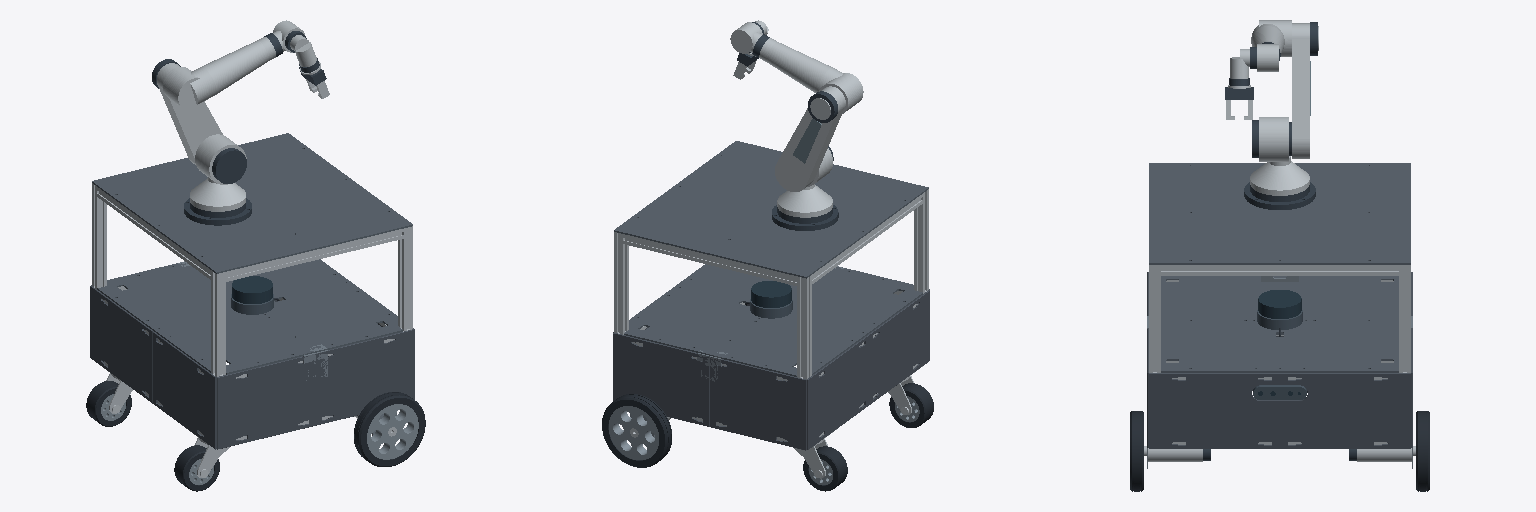
The robot description file, URDF, robot "oh_my_mobilerobot":
<?xml version='1.0' encoding='utf-8'?>
<robot name="oh_my_mobilerobot">
  <material name="color_accent">
    <color rgba="0.462745098 0.537254902 0.5803921569 1" />
  </material>
  <material name="color_arm">
    <color rgba="0.737254902 0.7647058824 0.7843137255 1" />
  </material>
  <material name="color_bracket">
    <color rgba="0.4941176471 0.537254902 0.5764705882 1" />
  </material>
  <material name="color_cover">
    <color rgba="0.3490196078 0.3803921569 0.4196078431 1" />
  </material>
  <material name="color_deck">
    <color rgba="0.3843137255 0.4235294118 0.462745098 1" />
  </material>
  <material name="color_display">
    <color rgba="0.2705882353 0.3176470588 0.3647058824 1" />
  </material>
  <material name="color_fastener">
    <color rgba="0.7647058824 0.7921568627 0.8156862745 1" />
  </material>
  <material name="color_hub">
    <color rgba="0.5490196078 0.5960784314 0.6352941176 1" />
  </material>
  <material name="color_joint">
    <color rgba="0.262745098 0.3058823529 0.3490196078 1" />
  </material>
  <material name="color_metal">
    <color rgba="0.7333333333 0.7607843137 0.7843137255 1" />
  </material>
  <material name="color_optic">
    <color rgba="0.2039215686 0.2745098039 0.3215686275 1" />
  </material>
  <material name="color_rubber">
    <color rgba="0.2117647059 0.2392156863 0.2705882353 1" />
  </material>
  <material name="color_screen">
    <color rgba="0.2078431373 0.2862745098 0.3411764706 1" />
  </material>
  <material name="color_screen_card">
    <color rgba="0.3960784314 0.4745098039 0.5176470588 1" />
  </material>
  <material name="color_screen_text">
    <color rgba="0.8823529412 0.9058823529 0.9215686275 1" />
  </material>
  <material name="color_sensor">
    <color rgba="0.3254901961 0.3764705882 0.4235294118 1" />
  </material>
  <link name="base_footprint" />
  <link name="base_link">
    <visual name="base_link_bracket">
      <geometry>
        <mesh filename="package://oh_my_mobilerobot_description/meshes/visual/base_link/bracket.stl" scale="1 1 1" />
      </geometry>
      <material name="color_bracket" />
    </visual>
    <visual name="base_link_cover">
      <geometry>
        <mesh filename="package://oh_my_mobilerobot_description/meshes/visual/base_link/cover.stl" scale="1 1 1" />
      </geometry>
      <material name="color_cover" />
    </visual>
    <visual name="base_link_deck">
      <geometry>
        <mesh filename="package://oh_my_mobilerobot_description/meshes/visual/base_link/deck.stl" scale="1 1 1" />
      </geometry>
      <material name="color_deck" />
    </visual>
    <visual name="base_link_fastener">
      <geometry>
        <mesh filename="package://oh_my_mobilerobot_description/meshes/visual/base_link/fastener.stl" scale="1 1 1" />
      </geometry>
      <material name="color_fastener" />
    </visual>
    <visual name="base_link_joint">
      <geometry>
        <mesh filename="package://oh_my_mobilerobot_description/meshes/visual/base_link/joint.stl" scale="1 1 1" />
      </geometry>
      <material name="color_joint" />
    </visual>
    <visual name="base_link_metal">
      <geometry>
        <mesh filename="package://oh_my_mobilerobot_description/meshes/visual/base_link/metal.stl" scale="1 1 1" />
      </geometry>
      <material name="color_metal" />
    </visual>
    <collision>
      <geometry>
        <box size="0.406 0.446 0.2" />
      </geometry>
      <origin rpy="0 0 0" xyz="-0.14 0 0.046" />
    </collision>
  </link>
  <link name="left_wheel_link">
    <visual name="left_wheel_link_hub">
      <geometry>
        <mesh filename="package://oh_my_mobilerobot_description/meshes/visual/left_wheel_link/hub.stl" scale="1 1 1" />
      </geometry>
      <material name="color_hub" />
    </visual>
    <visual name="left_wheel_link_metal">
      <geometry>
        <mesh filename="package://oh_my_mobilerobot_description/meshes/visual/left_wheel_link/metal.stl" scale="1 1 1" />
      </geometry>
      <material name="color_metal" />
    </visual>
    <visual name="left_wheel_link_rubber">
      <geometry>
        <mesh filename="package://oh_my_mobilerobot_description/meshes/visual/left_wheel_link/rubber.stl" scale="1 1 1" />
      </geometry>
      <material name="color_rubber" />
    </visual>
    <collision>
      <geometry>
        <cylinder length="0.024" radius="0.068" />
      </geometry>
      <origin rpy="1.570796327 0 0" xyz="0 0 0" />
    </collision>
  </link>
  <link name="right_wheel_link">
    <visual name="right_wheel_link_hub">
      <geometry>
        <mesh filename="package://oh_my_mobilerobot_description/meshes/visual/right_wheel_link/hub.stl" scale="1 1 1" />
      </geometry>
      <material name="color_hub" />
    </visual>
    <visual name="right_wheel_link_metal">
      <geometry>
        <mesh filename="package://oh_my_mobilerobot_description/meshes/visual/right_wheel_link/metal.stl" scale="1 1 1" />
      </geometry>
      <material name="color_metal" />
    </visual>
    <visual name="right_wheel_link_rubber">
      <geometry>
        <mesh filename="package://oh_my_mobilerobot_description/meshes/visual/right_wheel_link/rubber.stl" scale="1 1 1" />
      </geometry>
      <material name="color_rubber" />
    </visual>
    <collision>
      <geometry>
        <cylinder length="0.024" radius="0.068" />
      </geometry>
      <origin rpy="1.570796327 0 0" xyz="0 0 0" />
    </collision>
  </link>
  <link name="left_caster_swivel_link">
    <visual name="left_caster_swivel_link_fastener">
      <geometry>
        <mesh filename="package://oh_my_mobilerobot_description/meshes/visual/left_caster_swivel_link/fastener.stl" scale="1 1 1" />
      </geometry>
      <material name="color_fastener" />
    </visual>
    <visual name="left_caster_swivel_link_metal">
      <geometry>
        <mesh filename="package://oh_my_mobilerobot_description/meshes/visual/left_caster_swivel_link/metal.stl" scale="1 1 1" />
      </geometry>
      <material name="color_metal" />
    </visual>
    <collision>
      <geometry>
        <box size="0.0715 0.053 0.075" />
      </geometry>
      <origin rpy="0 0 0" xyz="-0.00925 0 -0.0375" />
    </collision>
  </link>
  <link name="right_caster_swivel_link">
    <visual name="right_caster_swivel_link_fastener">
      <geometry>
        <mesh filename="package://oh_my_mobilerobot_description/meshes/visual/right_caster_swivel_link/fastener.stl" scale="1 1 1" />
      </geometry>
      <material name="color_fastener" />
    </visual>
    <visual name="right_caster_swivel_link_metal">
      <geometry>
        <mesh filename="package://oh_my_mobilerobot_description/meshes/visual/right_caster_swivel_link/metal.stl" scale="1 1 1" />
      </geometry>
      <material name="color_metal" />
    </visual>
    <collision>
      <geometry>
        <box size="0.0715 0.053 0.075" />
      </geometry>
      <origin rpy="0 0 0" xyz="-0.00925 0 -0.0375" />
    </collision>
  </link>
  <link name="left_caster_wheel_link">
    <visual name="left_caster_wheel_link_hub">
      <geometry>
        <mesh filename="package://oh_my_mobilerobot_description/meshes/visual/left_caster_wheel_link/hub.stl" scale="1 1 1" />
      </geometry>
      <material name="color_hub" />
    </visual>
    <visual name="left_caster_wheel_link_rubber">
      <geometry>
        <mesh filename="package://oh_my_mobilerobot_description/meshes/visual/left_caster_wheel_link/rubber.stl" scale="1 1 1" />
      </geometry>
      <material name="color_rubber" />
    </visual>
    <collision>
      <geometry>
        <cylinder length="0.033" radius="0.038" />
      </geometry>
      <origin rpy="1.570796327 0 0" xyz="0 0 0" />
    </collision>
  </link>
  <link name="right_caster_wheel_link">
    <visual name="right_caster_wheel_link_hub">
      <geometry>
        <mesh filename="package://oh_my_mobilerobot_description/meshes/visual/right_caster_wheel_link/hub.stl" scale="1 1 1" />
      </geometry>
      <material name="color_hub" />
    </visual>
    <visual name="right_caster_wheel_link_rubber">
      <geometry>
        <mesh filename="package://oh_my_mobilerobot_description/meshes/visual/right_caster_wheel_link/rubber.stl" scale="1 1 1" />
      </geometry>
      <material name="color_rubber" />
    </visual>
    <collision>
      <geometry>
        <cylinder length="0.033" radius="0.038" />
      </geometry>
      <origin rpy="1.570796327 0 0" xyz="0 0 0" />
    </collision>
  </link>
  <link name="lidar_link">
    <visual name="lidar_link_optic">
      <geometry>
        <mesh filename="package://oh_my_mobilerobot_description/meshes/visual/lidar_link/optic.stl" scale="1 1 1" />
      </geometry>
      <material name="color_optic" />
    </visual>
    <visual name="lidar_link_rubber">
      <geometry>
        <mesh filename="package://oh_my_mobilerobot_description/meshes/visual/lidar_link/rubber.stl" scale="1 1 1" />
      </geometry>
      <material name="color_rubber" />
    </visual>
    <visual name="lidar_link_sensor">
      <geometry>
        <mesh filename="package://oh_my_mobilerobot_description/meshes/visual/lidar_link/sensor.stl" scale="1 1 1" />
      </geometry>
      <material name="color_sensor" />
    </visual>
    <collision>
      <geometry>
        <box size="0.09399897908 0.07598632342 0.062" />
      </geometry>
      <origin rpy="0 0 0" xyz="0.009000510459 0 0.01" />
    </collision>
  </link>
  <link name="camera_link">
    <visual name="camera_link_optic">
      <geometry>
        <mesh filename="package://oh_my_mobilerobot_description/meshes/visual/camera_link/optic.stl" scale="1 1 1" />
      </geometry>
      <material name="color_optic" />
    </visual>
    <visual name="camera_link_rubber">
      <geometry>
        <mesh filename="package://oh_my_mobilerobot_description/meshes/visual/camera_link/rubber.stl" scale="1 1 1" />
      </geometry>
      <material name="color_rubber" />
    </visual>
    <visual name="camera_link_sensor">
      <geometry>
        <mesh filename="package://oh_my_mobilerobot_description/meshes/visual/camera_link/sensor.stl" scale="1 1 1" />
      </geometry>
      <material name="color_sensor" />
    </visual>
    <collision>
      <geometry>
        <box size="0.06811 0.1675 0.025" />
      </geometry>
      <origin rpy="0 0 0" xyz="-0.033995 0.03875 0" />
    </collision>
  </link>
  <link name="laser_frame" />
  <link name="camera_optical_frame" />
  <joint name="base_footprint_joint" type="fixed">
    <parent link="base_footprint" />
    <child link="base_link" />
    <origin rpy="0 0 0" xyz="0 0 0.101" />
  </joint>
  <joint name="left_wheel_joint" type="continuous">
    <parent link="base_link" />
    <child link="left_wheel_link" />
    <origin rpy="0 0 0" xyz="0 0.24 -0.033" />
    <axis xyz="0 1 0" />
  </joint>
  <joint name="left_caster_swivel_joint" type="continuous">
    <parent link="base_link" />
    <child link="left_caster_swivel_link" />
    <origin rpy="0 0 0" xyz="-0.30775 0.155 0" />
    <axis xyz="0 0 1" />
  </joint>
  <joint name="left_caster_wheel_joint" type="continuous">
    <parent link="left_caster_swivel_link" />
    <child link="left_caster_wheel_link" />
    <origin rpy="0 0 0" xyz="-0.034 0 -0.063" />
    <axis xyz="0 1 0" />
  </joint>
  <joint name="right_wheel_joint" type="continuous">
    <parent link="base_link" />
    <child link="right_wheel_link" />
    <origin rpy="0 0 0" xyz="0 -0.24 -0.033" />
    <axis xyz="0 1 0" />
  </joint>
  <joint name="right_caster_swivel_joint" type="continuous">
    <parent link="base_link" />
    <child link="right_caster_swivel_link" />
    <origin rpy="0 0 0" xyz="-0.30775 -0.155 0" />
    <axis xyz="0 0 1" />
  </joint>
  <joint name="right_caster_wheel_joint" type="continuous">
    <parent link="right_caster_swivel_link" />
    <child link="right_caster_wheel_link" />
    <origin rpy="0 0 0" xyz="-0.034 0 -0.063" />
    <axis xyz="0 1 0" />
  </joint>
  <joint name="lidar_joint" type="fixed">
    <parent link="base_link" />
    <child link="lidar_link" />
    <origin rpy="0 0 0" xyz="-0.14 0 0.143" />
  </joint>
  <joint name="laser_frame_joint" type="fixed">
    <parent link="lidar_link" />
    <child link="laser_frame" />
    <origin rpy="0 0 0" xyz="0 0 0.0303" />
  </joint>
  <joint name="camera_joint" type="fixed">
    <parent link="base_link" />
    <child link="camera_link" />
    <origin rpy="0 0 0" xyz="0.06505 0 0.1035" />
  </joint>
  <joint name="camera_optical_joint" type="fixed">
    <parent link="camera_link" />
    <child link="camera_optical_frame" />
    <origin rpy="-1.570796327 0 -1.570796327" xyz="0 0 0" />
  </joint>
  <link name="module_link">
    <visual name="module_link_accent">
      <geometry>
        <mesh filename="package://oh_my_mobilerobot_description/meshes/visual/arm_module/accent.stl" scale="1 1 1" />
      </geometry>
      <material name="color_accent" />
    </visual>
    <visual name="module_link_arm">
      <geometry>
        <mesh filename="package://oh_my_mobilerobot_description/meshes/visual/arm_module/arm.stl" scale="1 1 1" />
      </geometry>
      <material name="color_arm" />
    </visual>
    <visual name="module_link_bracket">
      <geometry>
        <mesh filename="package://oh_my_mobilerobot_description/meshes/visual/arm_module/bracket.stl" scale="1 1 1" />
      </geometry>
      <material name="color_bracket" />
    </visual>
    <visual name="module_link_deck">
      <geometry>
        <mesh filename="package://oh_my_mobilerobot_description/meshes/visual/arm_module/deck.stl" scale="1 1 1" />
      </geometry>
      <material name="color_deck" />
    </visual>
    <visual name="module_link_fastener">
      <geometry>
        <mesh filename="package://oh_my_mobilerobot_description/meshes/visual/arm_module/fastener.stl" scale="1 1 1" />
      </geometry>
      <material name="color_fastener" />
    </visual>
    <visual name="module_link_joint">
      <geometry>
        <mesh filename="package://oh_my_mobilerobot_description/meshes/visual/arm_module/joint.stl" scale="1 1 1" />
      </geometry>
      <material name="color_joint" />
    </visual>
    <visual name="module_link_metal">
      <geometry>
        <mesh filename="package://oh_my_mobilerobot_description/meshes/visual/arm_module/metal.stl" scale="1 1 1" />
      </geometry>
      <material name="color_metal" />
    </visual>
  </link>
  <joint name="module_joint" type="fixed">
    <parent link="base_link" />
    <child link="module_link" />
    <origin rpy="0 0 0" xyz="-0.14 0 0.143" />
  </joint>
</robot>

--- Facts derived from the render (not from the file) ---
3 views of the same robot in one strip: view 1: azimuth 30°, elevation 25°; view 2: azimuth 150°, elevation 25°; view 3: azimuth 270°, elevation 25° (orthographic).
Robot: oh_my_mobilerobot — 13 links, 12 joints (6 continuous, 6 fixed); root link base_footprint; default pose: all joints at 0.
Links seen in each view (by area): view 1: base_link, module_link, right_wheel_link, lidar_link, left_caster_wheel_link, right_caster_wheel_link, right_caster_swivel_link; view 2: base_link, module_link, left_wheel_link, lidar_link, right_caster_wheel_link, left_caster_wheel_link; view 3: base_link, module_link, lidar_link, left_wheel_link, right_wheel_link, camera_link.
Link boxes in pixels (x1,y1,x2,y2): base_link: (90,259,414,449); module_link: (92,20,412,380); right_wheel_link: (354,392,425,466); lidar_link: (231,276,279,314); left_caster_wheel_link: (86,381,131,426); right_caster_wheel_link: (174,445,219,491); right_caster_swivel_link: (194,437,229,477); base_link: (613,264,929,450); module_link: (614,20,928,381); left_wheel_link: (602,394,671,467); lidar_link: (745,281,792,318); right_caster_wheel_link: (889,383,933,427); left_caster_wheel_link: (803,446,847,491); base_link: (1147,272,1412,468); module_link: (1147,20,1412,372); lidar_link: (1257,290,1302,336); left_wheel_link: (1413,411,1429,491); right_wheel_link: (1130,411,1146,491); camera_link: (1253,385,1307,399).
Bounding box of the posed robot: 0.4478 × 0.504 × 0.7831 m (x, y, z).
31 mesh visuals loaded from 33 distinct referenced files (30 binary STL); not drawn: 2 (reference not matched to a file when rendering).
